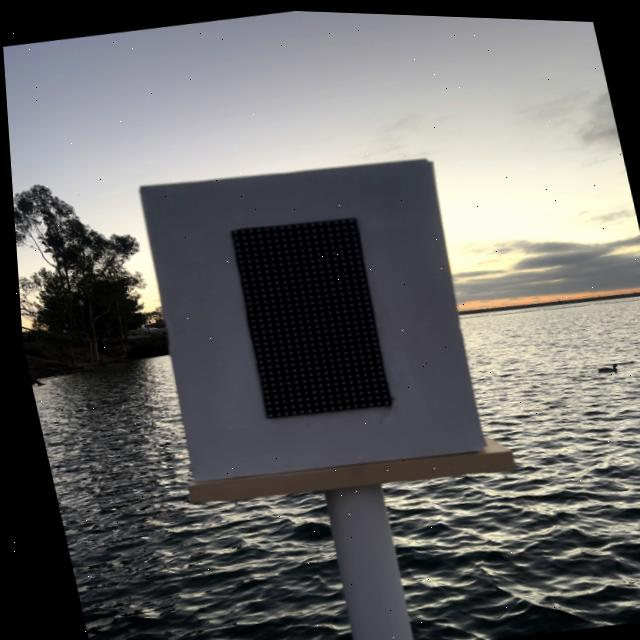led: (189, 189, 430, 461)
